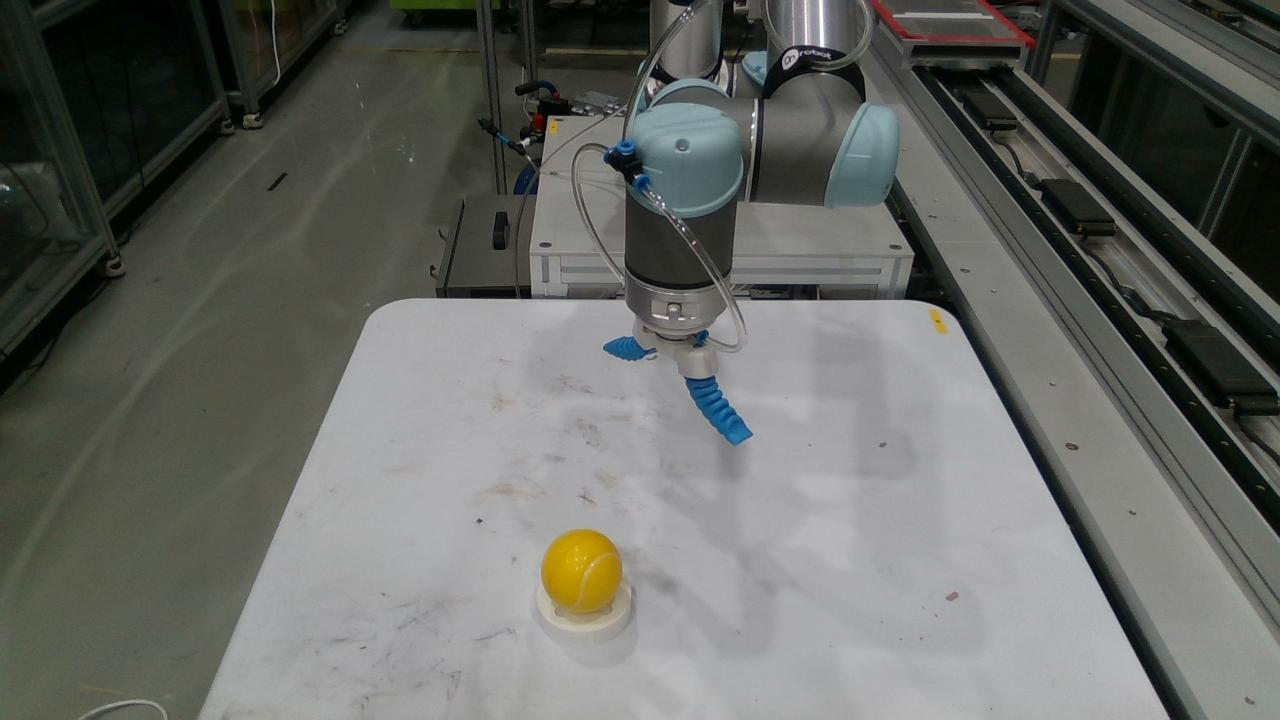UR5: (622, 0, 898, 276), (625, 190, 725, 378)
gripper_left: (604, 336, 655, 361)
gripper_right: (686, 377, 752, 444)
target: (542, 529, 622, 613)
